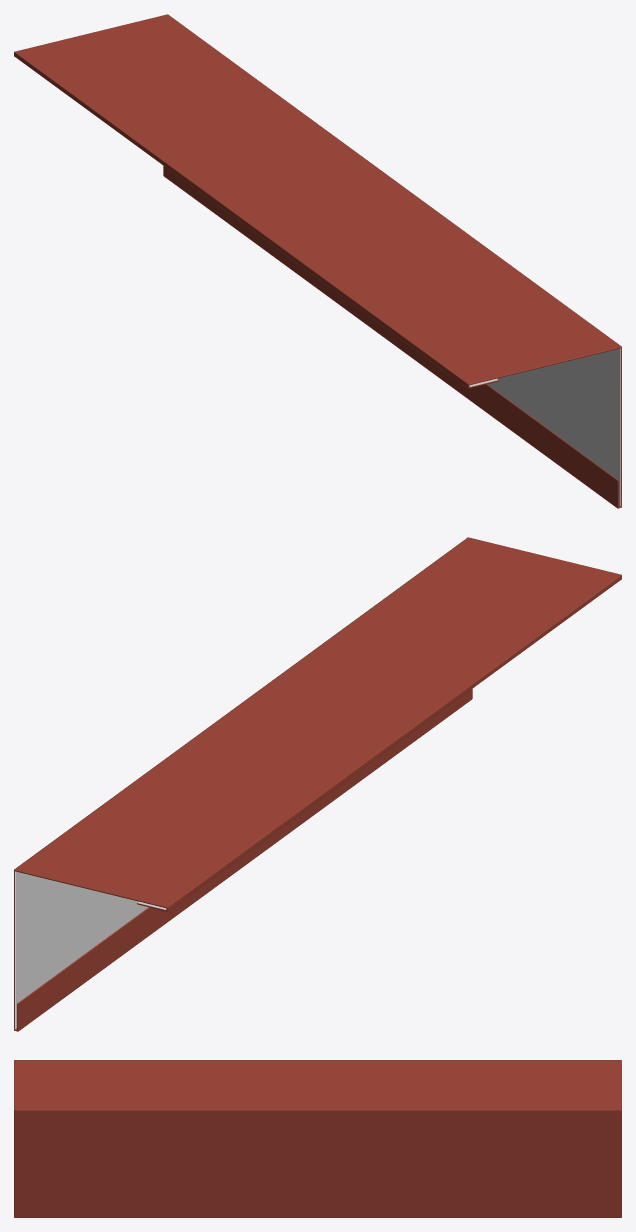
The picture shows the model from 3 angles, top to bottom: view 1: azimuth 30°, elevation 25°; view 2: azimuth 150°, elevation 25°; view 3: azimuth 270°, elevation 25°; orthographic projection. The views are drawn at different scales.
Parts seen in each view (by area): view 1: w1ll-k, w1ll-b; view 2: w1ll-k, w1ll-b; view 3: w1ll-k.
Part boxes in pixels (x1,y1,x2,y2): w1ll-k: [14, 14, 621, 508]; w1ll-b: [469, 348, 620, 505]; w1ll-k: [14, 537, 621, 1031]; w1ll-b: [15, 871, 166, 1028]; w1ll-k: [14, 1060, 621, 1217].
Size of the model in its own units: 391 by 391 by 2002.
